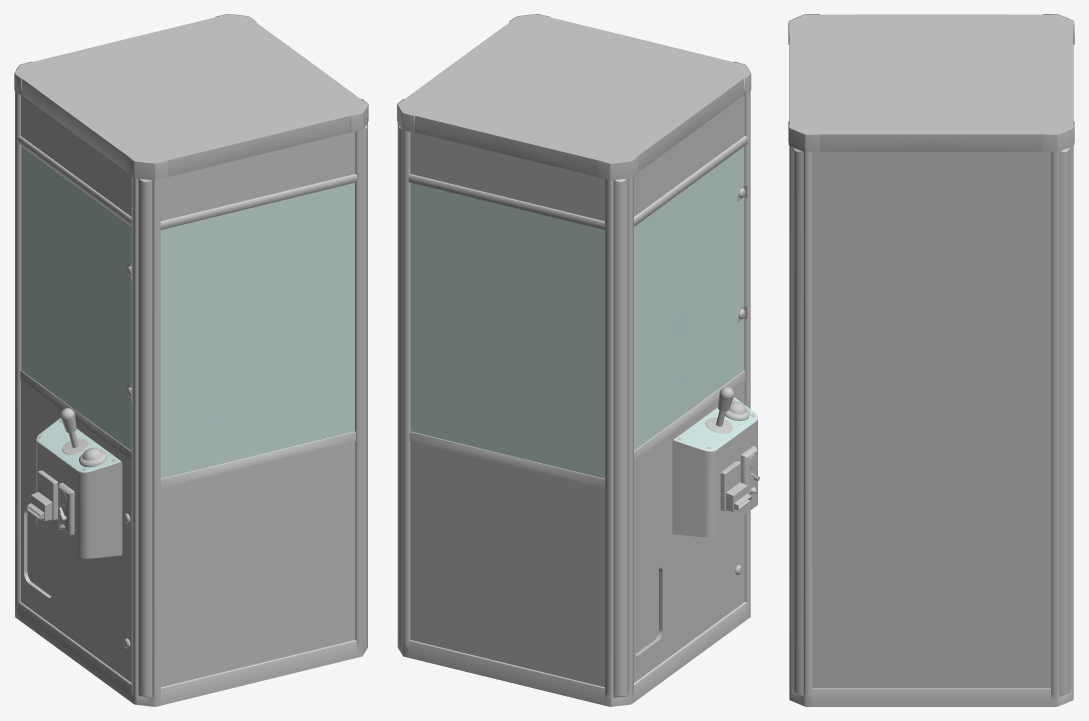
The model's file is SM_ClawMachine_01a.fbx.
3 views of the same model, side by side, from view 1: azimuth 30°, elevation 25°; view 2: azimuth 150°, elevation 25°; view 3: azimuth 270°, elevation 25° (orthographic). The views are drawn at different scales.
Parts seen in each view (by area): view 1: SM_ClawMachine_01a_LOD0; view 2: SM_ClawMachine_01a_LOD0; view 3: SM_ClawMachine_01a_LOD0.
Boxes of the visible parts, left/top/right/bottom form: SM_ClawMachine_01a_LOD0: left=14, top=14, right=368, bottom=706; SM_ClawMachine_01a_LOD0: left=397, top=14, right=759, bottom=706; SM_ClawMachine_01a_LOD0: left=788, top=14, right=1074, bottom=706.
Size of the model in its own units: 109 by 90.98 by 201.
Materials: 3 (1 with a texture image).
